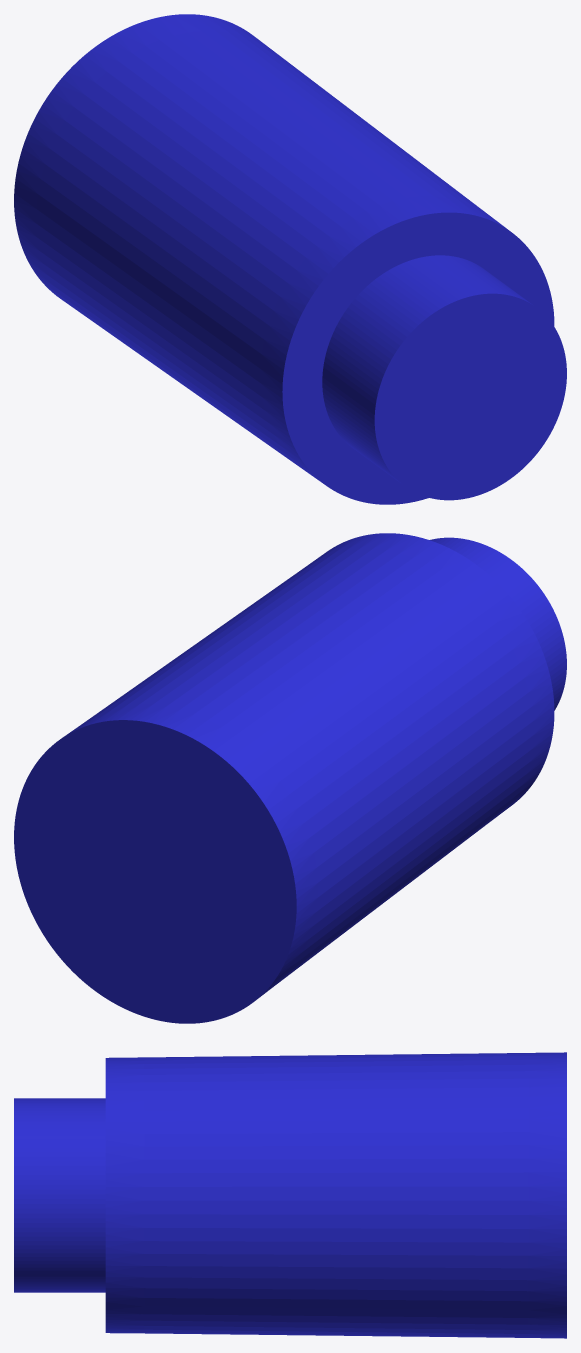
3 renders of one model, top to bottom at view 1: azimuth 30°, elevation 25°; view 2: azimuth 150°, elevation 25°; view 3: azimuth 270°, elevation 25°, orthographic. The views are drawn at different scales.
Visible parts, largest first — view 1: node; view 2: node; view 3: node.
Boxes of the visible parts, <box> form: node: <box>14,14,566,504</box>; node: <box>14,533,566,1023</box>; node: <box>14,1052,566,1338</box>.
Size of the model in its own units: 0.093 by 0.093 by 0.1798.
